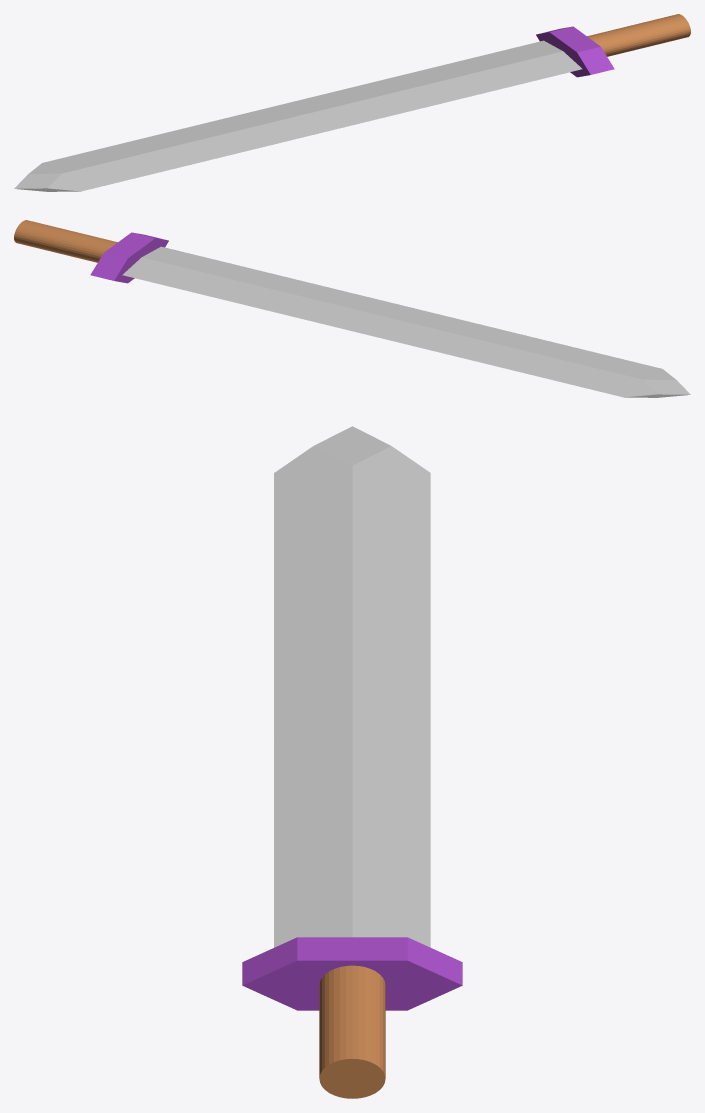
File: sword_V1.fbx
3 renders of one model, top to bottom at view 1: azimuth 30°, elevation 25°; view 2: azimuth 150°, elevation 25°; view 3: azimuth 270°, elevation 25°, orthographic. The views are drawn at different scales.
Parts seen in each view (by area): view 1: sword; view 2: sword; view 3: sword.
Part boxes in pixels (left/top/right/bottom): sword: left=14, top=14, right=690, bottom=191; sword: left=14, top=220, right=690, bottom=397; sword: left=242, top=426, right=462, bottom=1098.
Bounding box in the file's own units: 2800 × 100 × 400.
